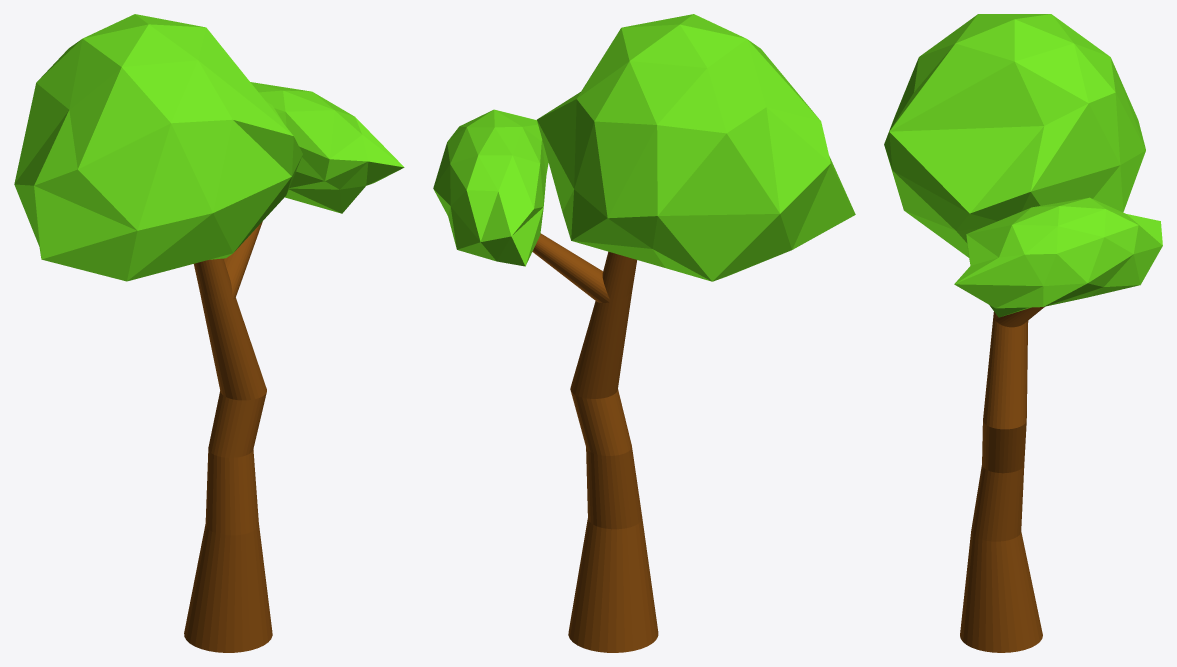
Rendered from SM_Generic_Tree_01.fbx.
The picture shows the model from 3 angles, left to right: view 1: azimuth 30°, elevation 25°; view 2: azimuth 150°, elevation 25°; view 3: azimuth 270°, elevation 25°; orthographic projection. The views are drawn at different scales.
Parts seen in each view (by area): view 1: Icosphere, Cylinder, Icosphere.001; view 2: Icosphere, Cylinder, Icosphere.001; view 3: Icosphere, Cylinder, Icosphere.001.
Boxes of the visible parts, x1,y1,x2,y2 form: Icosphere: [14, 14, 302, 281]; Cylinder: [184, 221, 272, 652]; Icosphere.001: [250, 82, 404, 213]; Icosphere: [537, 14, 855, 281]; Cylinder: [532, 233, 658, 652]; Icosphere.001: [433, 109, 548, 266]; Icosphere: [884, 14, 1145, 257]; Cylinder: [960, 306, 1044, 652]; Icosphere.001: [954, 197, 1162, 317].
Size of the model in its own units: 406 by 663 by 287.
